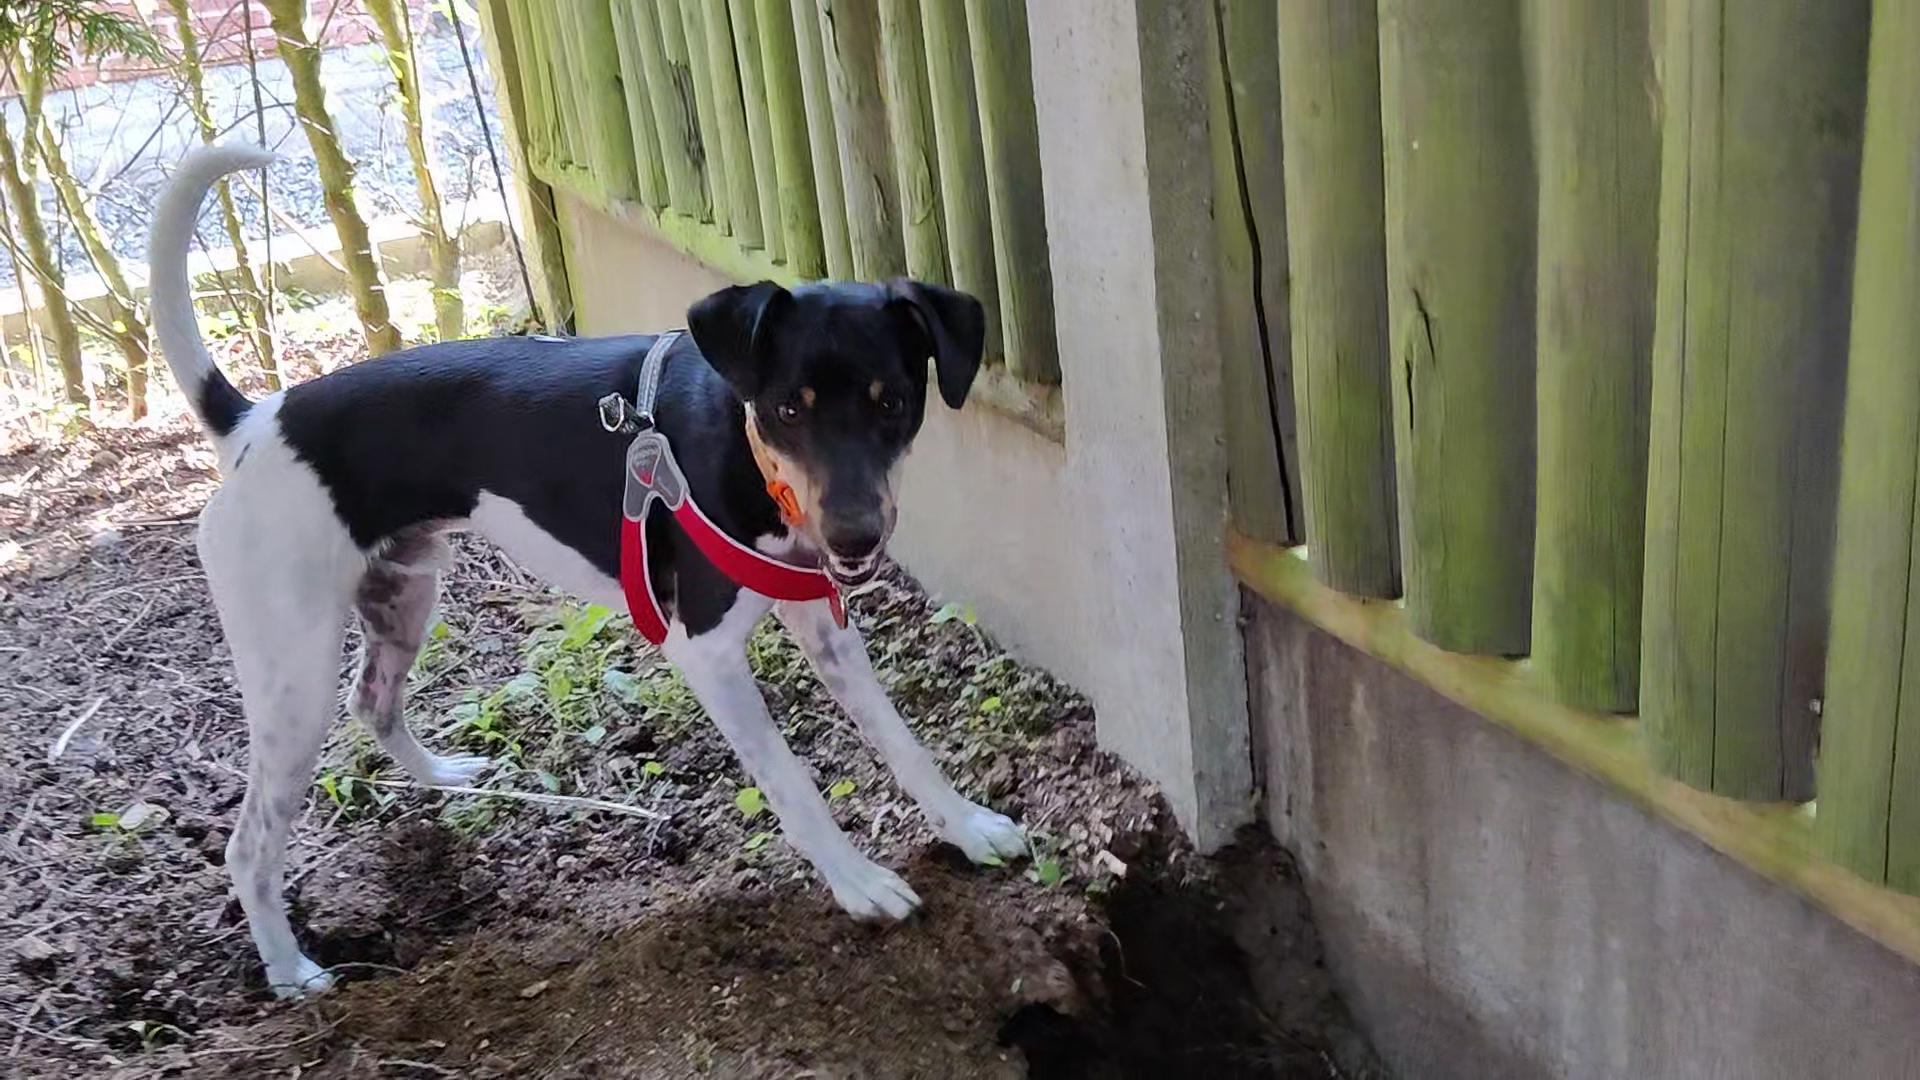Dog: (135, 131, 1060, 1021)
